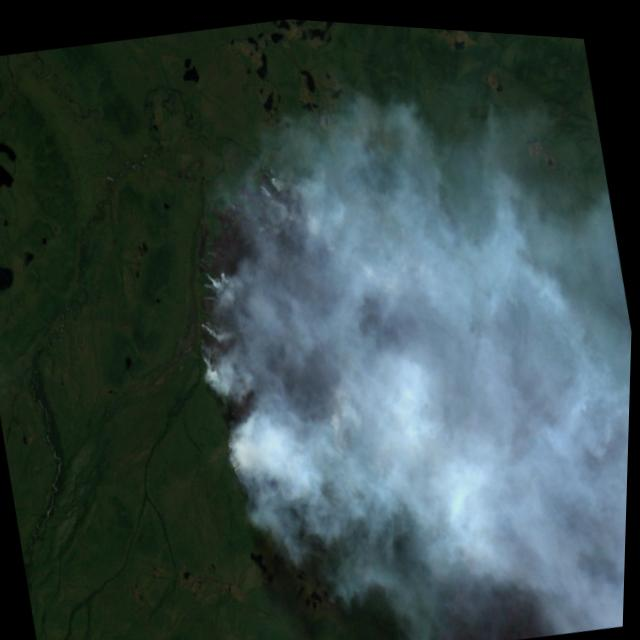fire: (162, 134, 445, 412), (218, 389, 410, 527)
